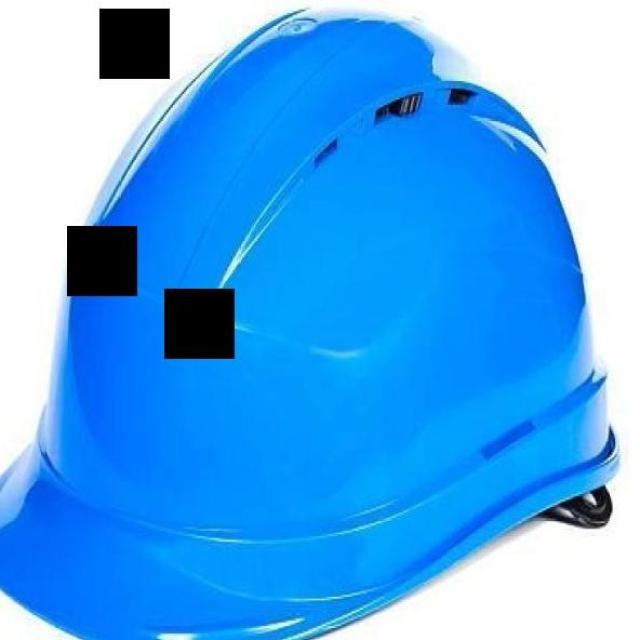blue helmet: (1, 1, 619, 640)
